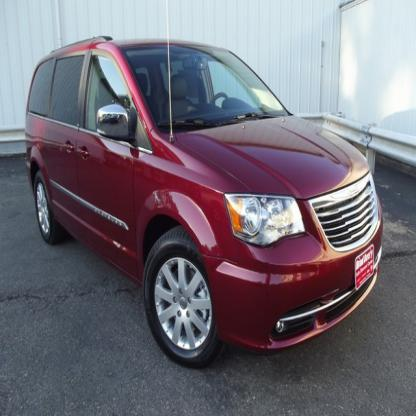Vehicle: (26, 36, 384, 367)
